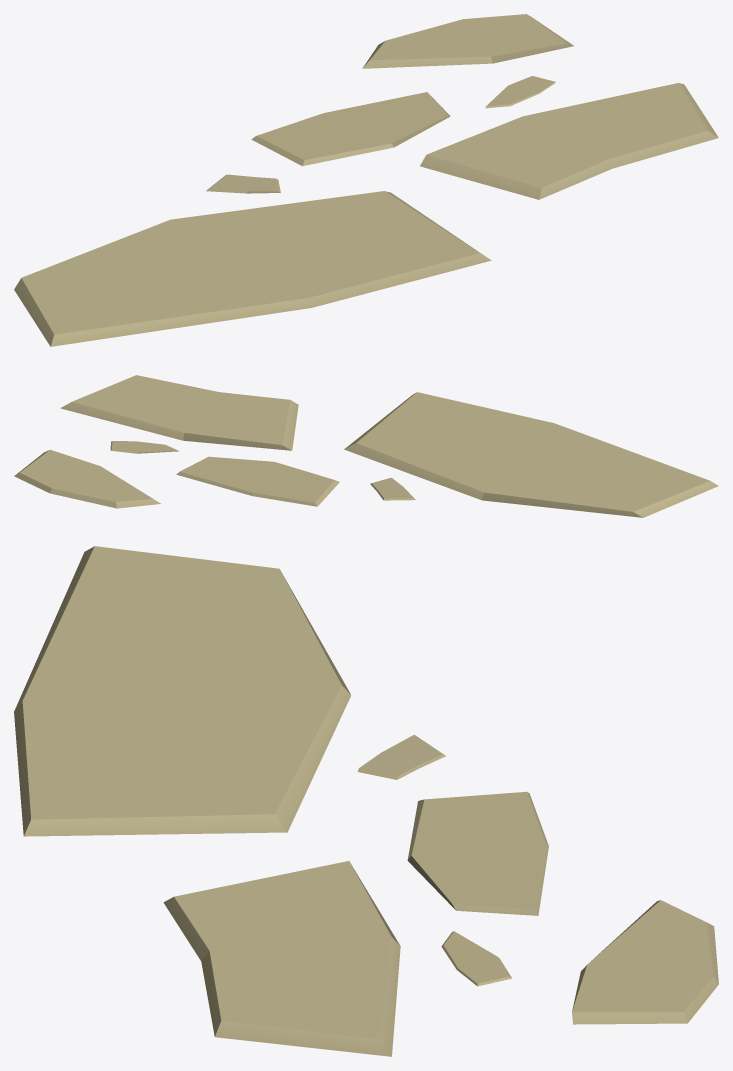
The model's file is Rock_Medium_1.fbx.
3 renders of one model, top to bottom at view 1: azimuth 30°, elevation 25°; view 2: azimuth 150°, elevation 25°; view 3: azimuth 270°, elevation 25°, orthographic. The views are drawn at different scales.
Visible parts, largest first — view 1: rocks_medium_1; view 2: rocks_medium_1; view 3: rocks_medium_1.
Boxes of the visible parts, x1=… form: rocks_medium_1: x1=14, y1=14, x2=718, y2=346; rocks_medium_1: x1=14, y1=375, x2=718, y2=517; rocks_medium_1: x1=14, y1=546, x2=718, y2=1056.
Size of the model in its own units: 555 by 5.58 by 327.
Materials: 1 (1 with a texture image).
